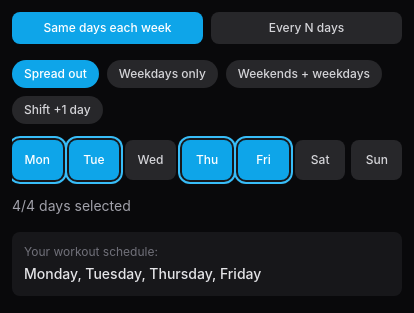
Test: TrainingScheduleSelector › exposes an every-other-day cadence — the schedule weekdays cannot express
This screenshot has width=414, height=313.
Step 1. Click the button "Every N days" → point(306, 28), box top-left (211, 12), bottom-right (402, 44)
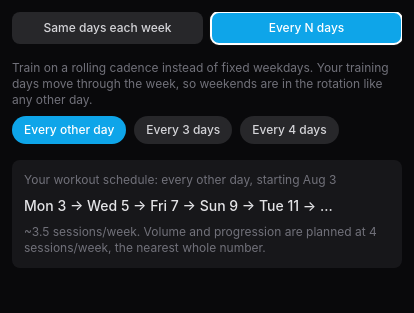
Now the text "Monday" is gone
